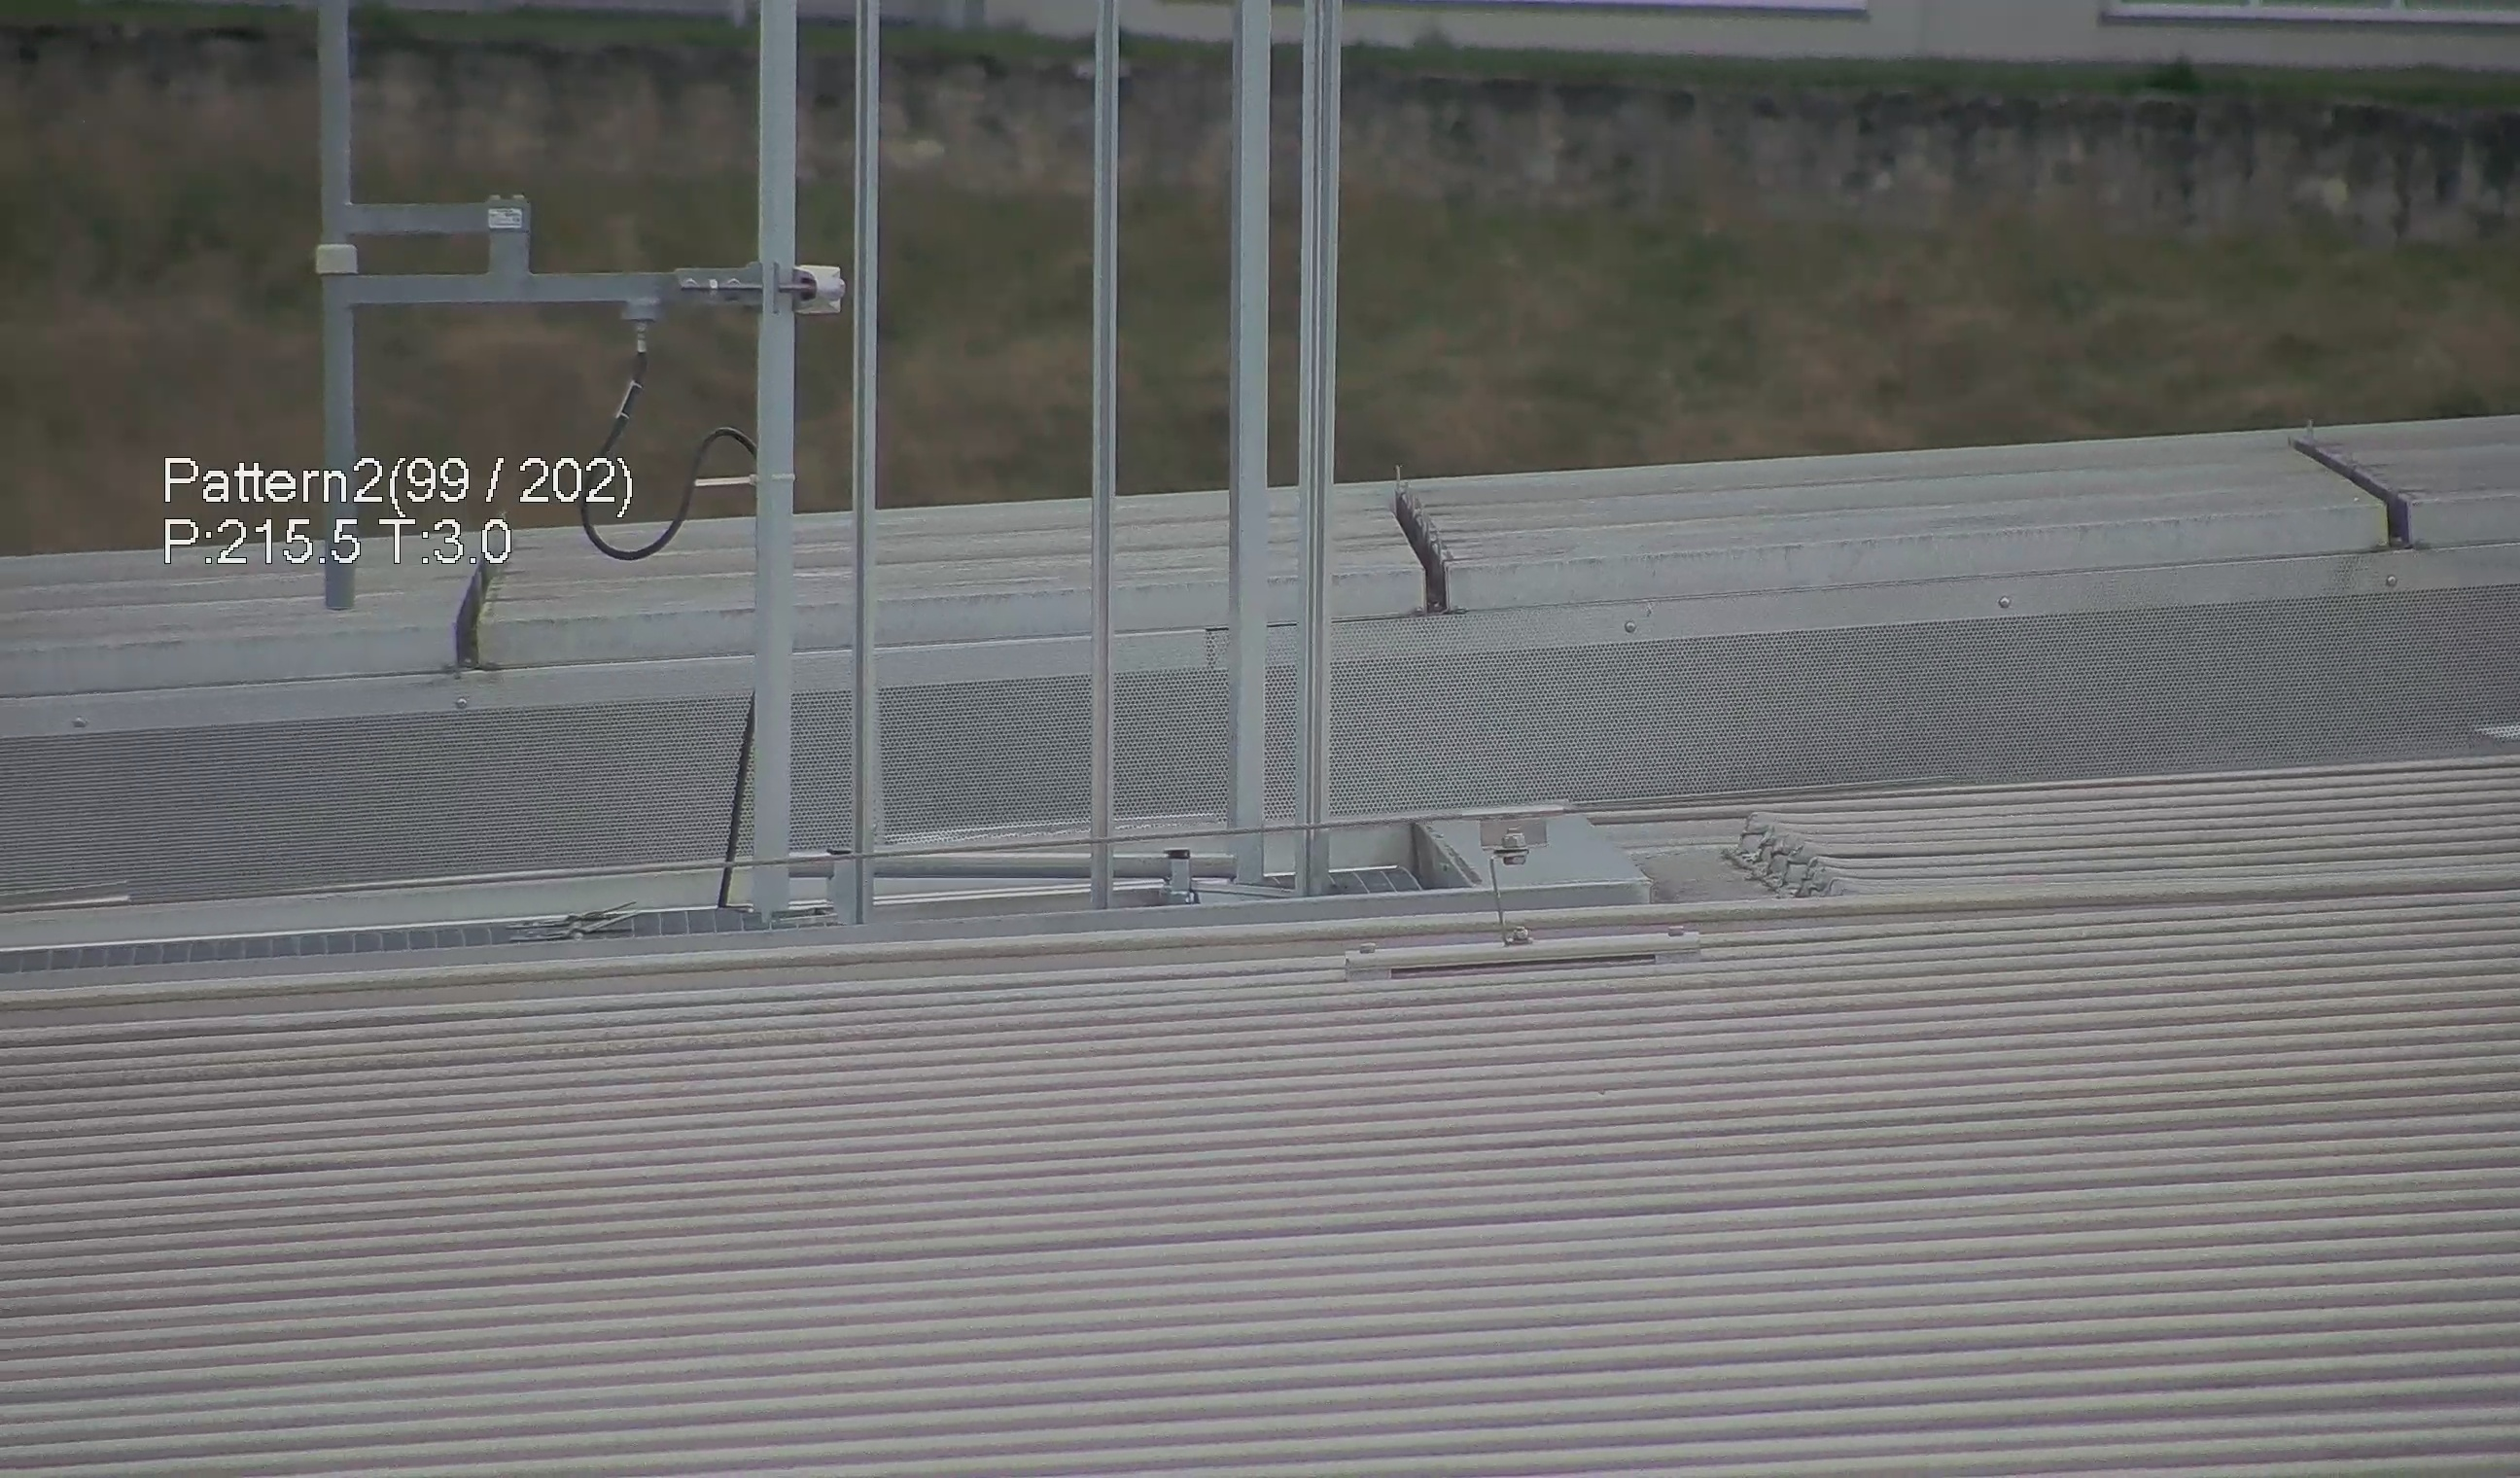Other: (1373, 459, 1479, 618)
